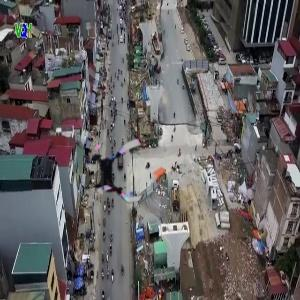drone: (84, 138, 156, 210)
